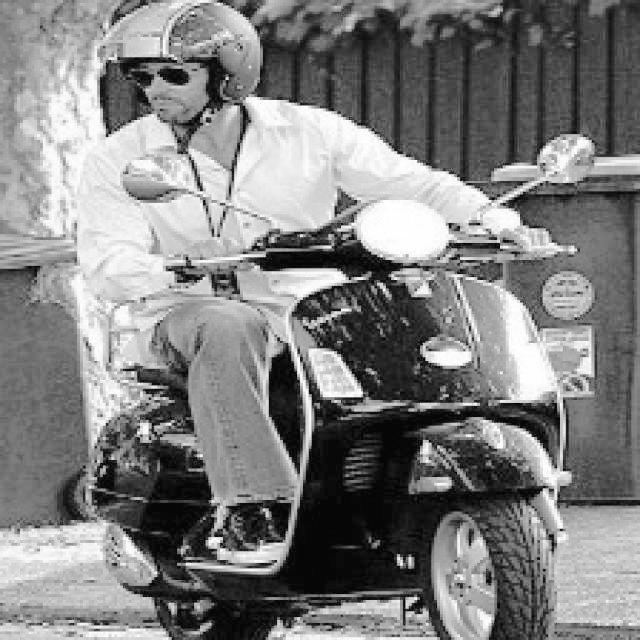Bike: (98, 216, 574, 638)
